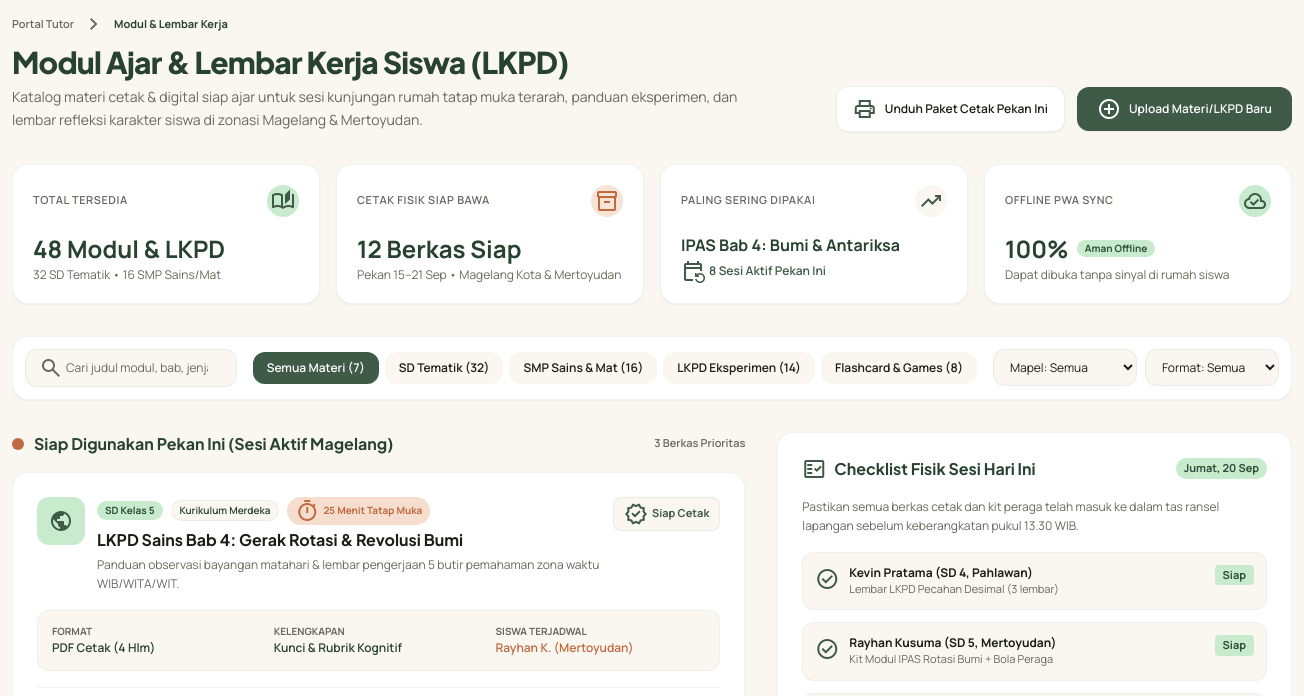
Test case: TutorWorksheetsModules Component (SQA-ISTQB & TDD) › TC-TWM-002: filters module catalog using filter pills (SD, SMP, LKPD, Flashcard)
# Filter by SMP
Click the button "SMP Sains & Mat (16)" at (583, 368), box [510, 352, 657, 384]
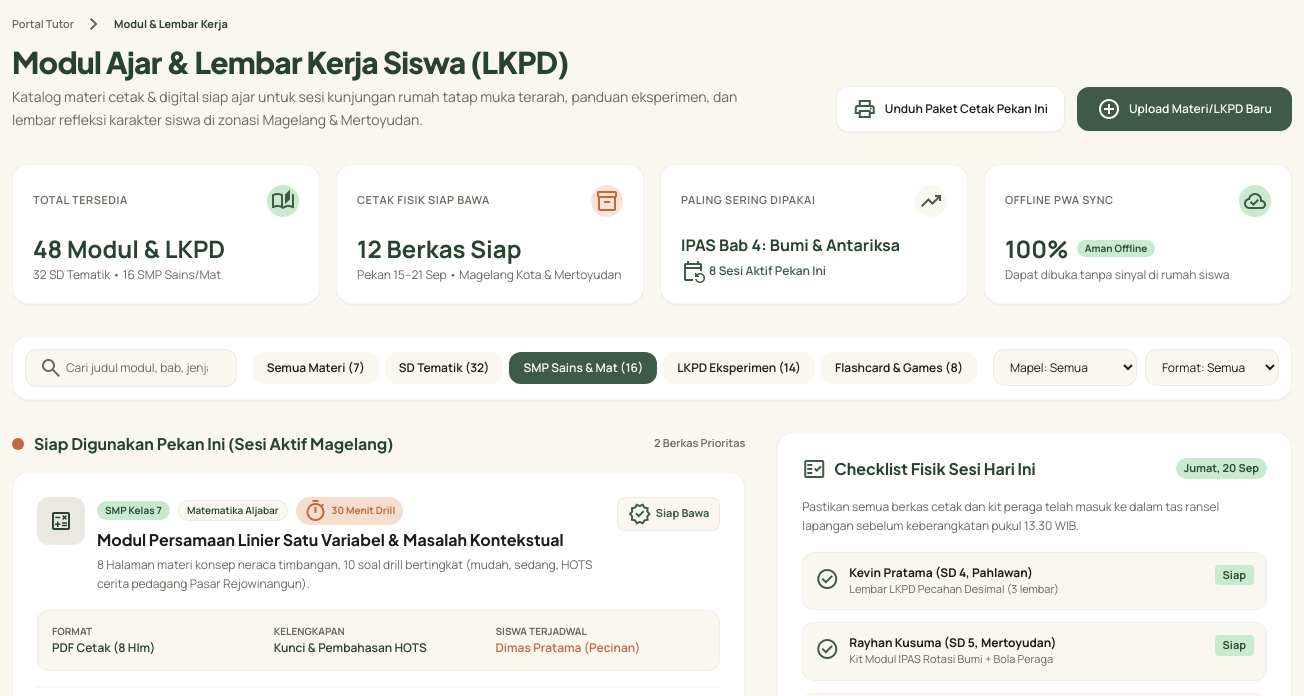
Expected: the heading "Modul Persamaan Linier Satu Variabel & Masalah Kontekstual" is shown, [97, 528, 605, 550]
Expected: the heading "LKPD Sains Bab 4: Gerak Rotasi & Revolusi Bumi" is gone
# Reset to Semua Materi
Click the button "Semua Materi (7)" at (316, 368), box [253, 352, 379, 384]
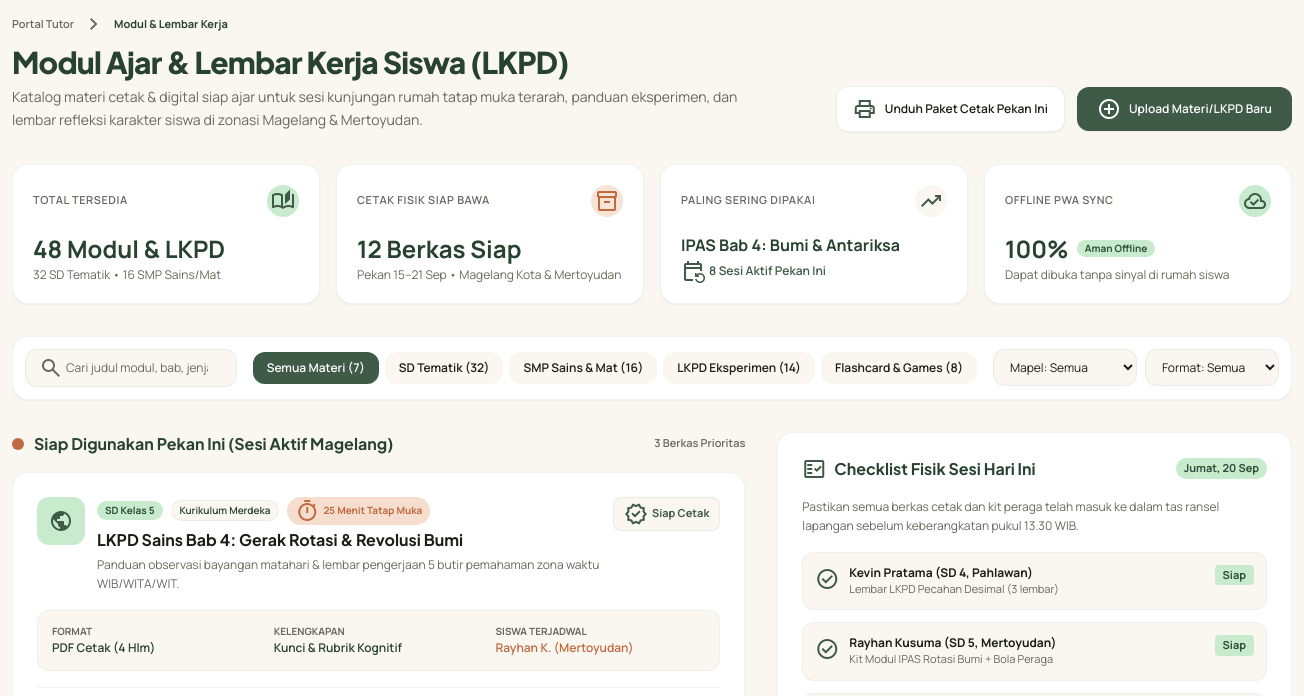
Expected: the heading "LKPD Sains Bab 4: Gerak Rotasi & Revolusi Bumi" is shown, [97, 528, 463, 550]
